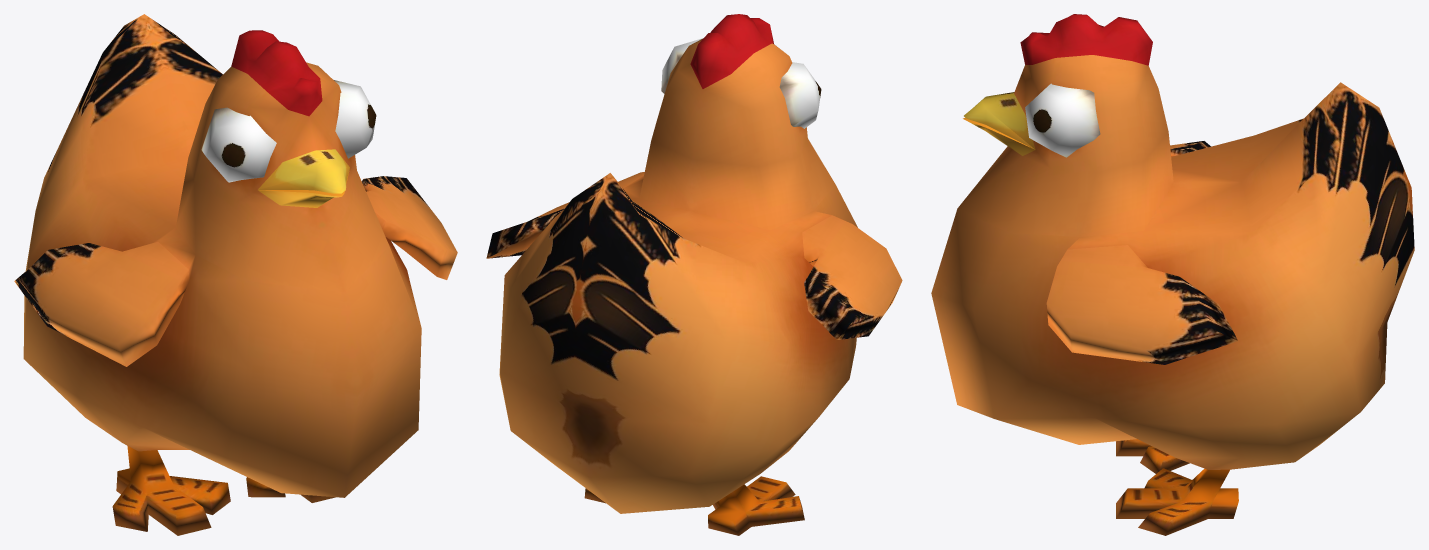
Rendered from farm_hen.glb.
3 views of the same model, side by side, from view 1: azimuth 30°, elevation 25°; view 2: azimuth 150°, elevation 25°; view 3: azimuth 270°, elevation 25° (orthographic). The views are drawn at different scales.
Parts seen in each view (by area): view 1: farm:polySurface5; view 2: farm:polySurface5; view 3: farm:polySurface5.
Part boxes in pixels (left/top/right/bottom): farm:polySurface5: left=14, top=14, right=457, bottom=535; farm:polySurface5: left=486, top=14, right=902, bottom=535; farm:polySurface5: left=931, top=14, right=1414, bottom=535.
Bounding box in the file's own units: 0.5318 × 0.625 × 0.5891.
1 material, 1 textured.
